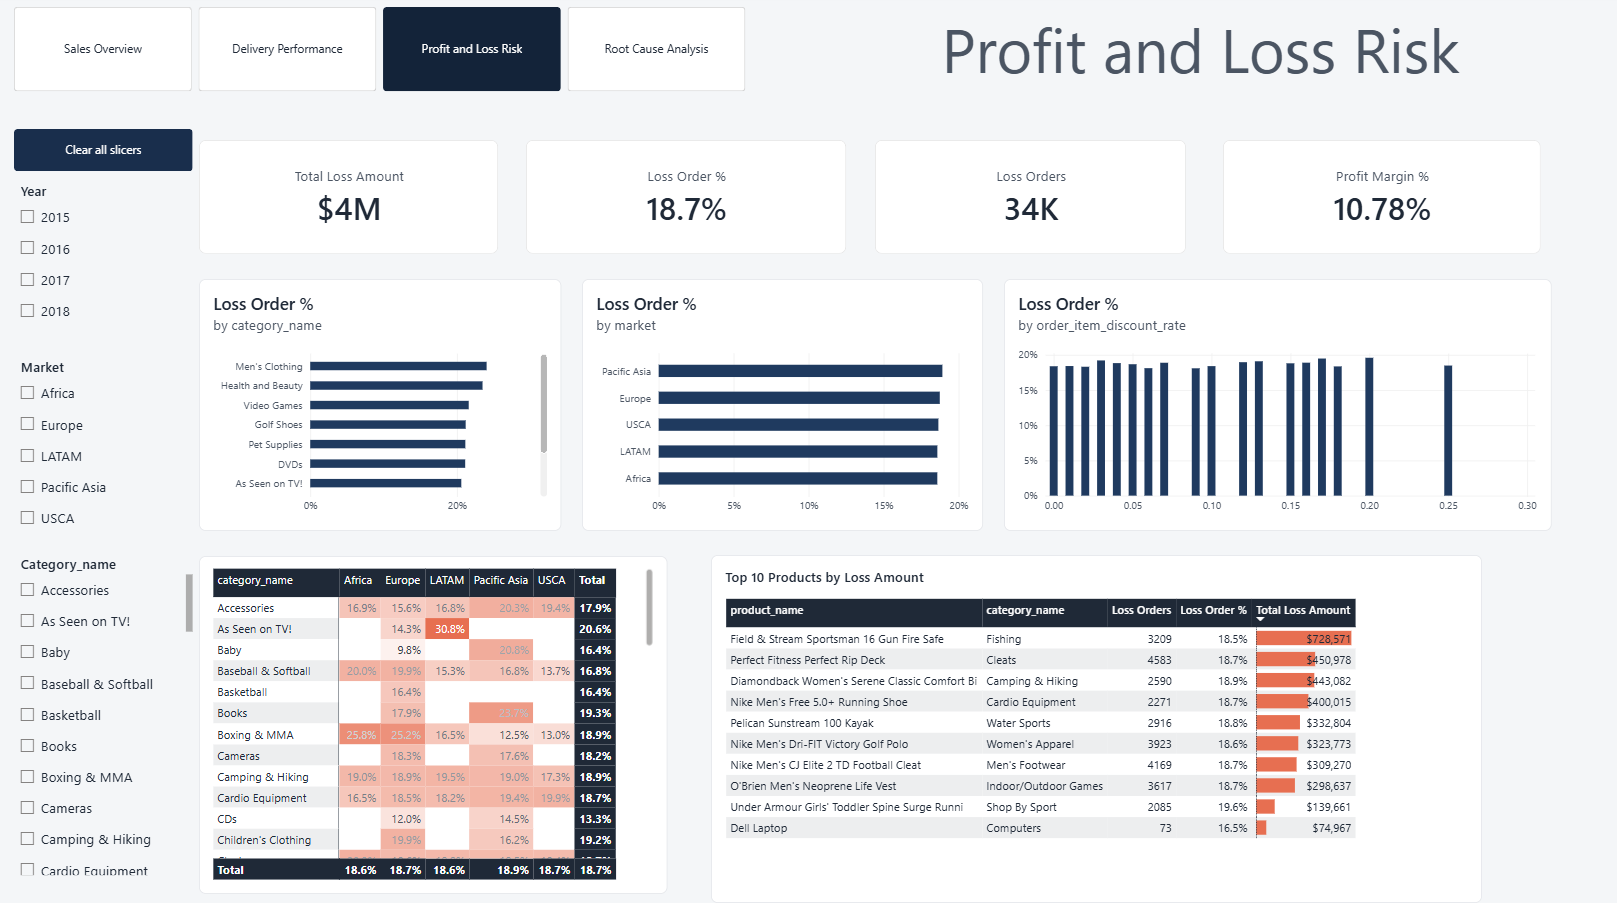

This screenshot's page, from the dashboard's own definition file:
{"tool":"powerbi","page":{"name":"Profit and Loss Risk","canvas":[1920,1080],"ordinal":2},"visuals":[{"type":"cardVisual","fields":{"Data":["_Measures.Total Loss Amount"]},"box":[235.8,172.4,355.1,135.6],"z":0},{"type":"cardVisual","fields":{"Data":["_Measures.Loss Order %"]},"box":[624.8,172.4,380.2,135.6],"z":1000},{"type":"cardVisual","fields":{"Data":["_Measures.Loss Orders"]},"box":[1038.8,172.4,369.9,135.6],"z":2000},{"type":"cardVisual","fields":{"Data":["_Measures.Profit Margin %"]},"box":[1451.4,172.4,377.2,135.6],"z":3000},{"type":"clusteredBarChart","fields":{"Category":["dataco_orders.category_name"],"Y":["_Measures.Loss Order %"]},"box":[235.8,337.4,430.3,299.1],"z":4000},{"type":"clusteredBarChart","fields":{"Category":["dataco_orders.market"],"Y":["_Measures.Loss Order %"]},"box":[691.1,337.4,475.9,299.1],"z":5000},{"type":"tableEx","title":"Top 10 Products by Loss Amount","fields":{"Values":["products.product_name","dataco_orders.category_name","_Measures.Loss Orders","_Measures.Loss Order %","_Measures.Total Loss Amount"]},"box":[844.3,664.6,915.1,412.6],"z":6000},{"type":"clusteredColumnChart","fields":{"Category":["dataco_orders.order_item_discount_rate"],"Y":["_Measures.Loss Order %"]},"box":[1192.1,337.4,649.8,299.1],"z":7000},{"type":"pivotTable","title":"Loss Order % by Category and Market","fields":{"Columns":["dataco_orders.market"],"Rows":["dataco_orders.category_name"],"Values":["_Measures.Loss Order %"]},"box":[235.8,666,555.5,400.8],"z":8000},{"type":"slicer","fields":{"Values":["Date.Year"]},"box":[16.2,222.5,213.7,178.3],"z":9000},{"type":"slicer","fields":{"Values":["dataco_orders.market"]},"box":[16.2,430.3,213.7,216.6],"z":10000},{"type":"slicer","fields":{"Values":["dataco_orders.category_name"]},"box":[16.2,664.6,212.2,380.2],"z":11000},{"type":"pageNavigator","box":[16.6,14.2,868.7,100.9],"z":12000},{"type":"actionButton","box":[16.2,159.1,212.2,50.1],"z":12001},{"type":"textbox","box":[960.7,14.7,926.8,110.5],"z":12002}]}

Visuals, with their boxes in screenshot pixels (x1, y1, x2, y2), scaled from the page's 1920x1080 canvas onto the 1617x903 screenshot:
cardVisual - _Measures.Total Loss Amount: 199/144/498/258
cardVisual - _Measures.Loss Order %: 526/144/846/258
cardVisual - _Measures.Loss Orders: 875/144/1186/258
cardVisual - _Measures.Profit Margin %: 1222/144/1540/258
clusteredBarChart - dataco_orders.category_name x _Measures.Loss Order %: 199/282/561/532
clusteredBarChart - dataco_orders.market x _Measures.Loss Order %: 582/282/983/532
"Top 10 Products by Loss Amount" tableEx: 711/556/1482/901
clusteredColumnChart - dataco_orders.order_item_discount_rate x _Measures.Loss Order %: 1004/282/1551/532
"Loss Order % by Category and Market" pivotTable: 199/557/666/892
slicer - Date.Year: 14/186/194/335
slicer - dataco_orders.market: 14/360/194/541
slicer - dataco_orders.category_name: 14/556/192/874
pageNavigator: 14/12/746/96
actionButton: 14/133/192/175
textbox: 809/12/1590/105
